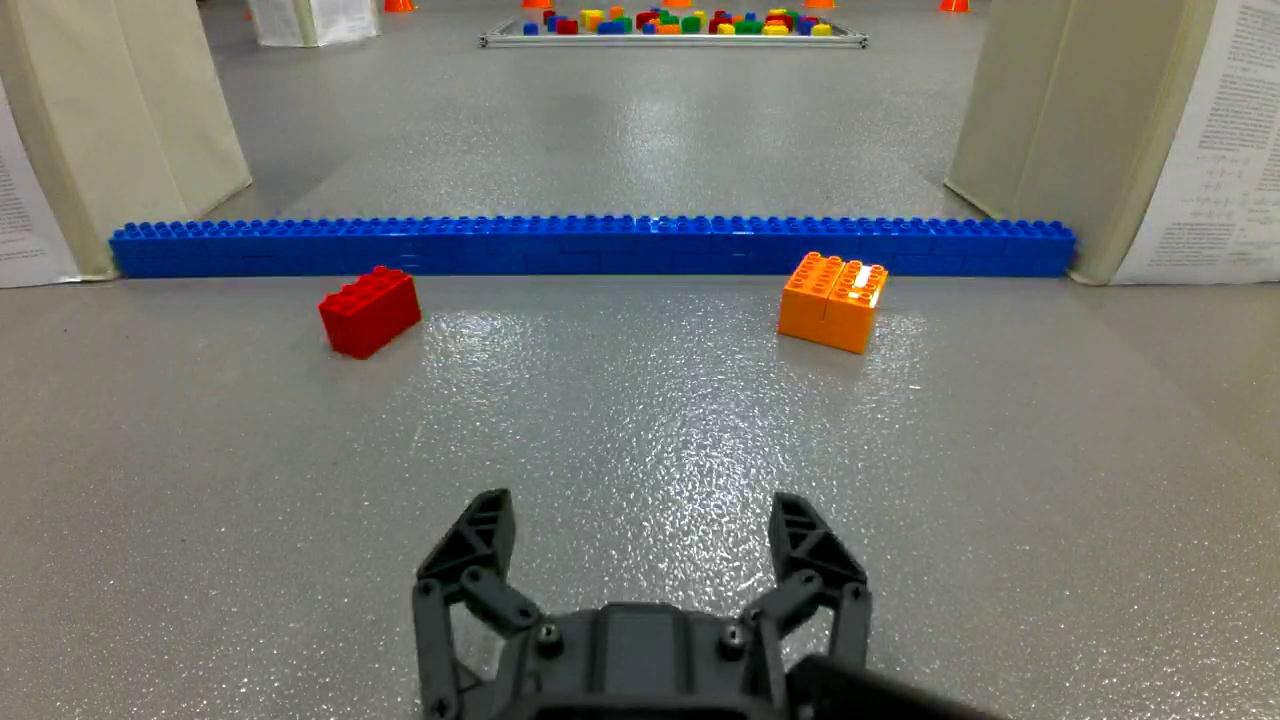2x4lego: (314, 262, 424, 360)
4x4lego: (776, 249, 890, 354)
